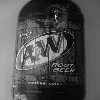beer: (11, 1, 88, 100)
